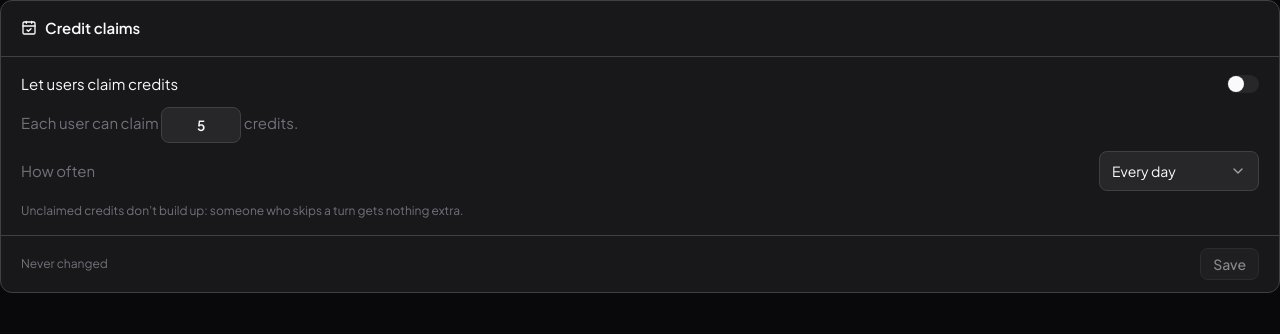
Test: DailyCreditsCard › refuses  as an amount, saying why
This screenshot has width=1280, height=334.
Clear the field named "Credits per claim" at (201, 125), box [161,107,241,143]
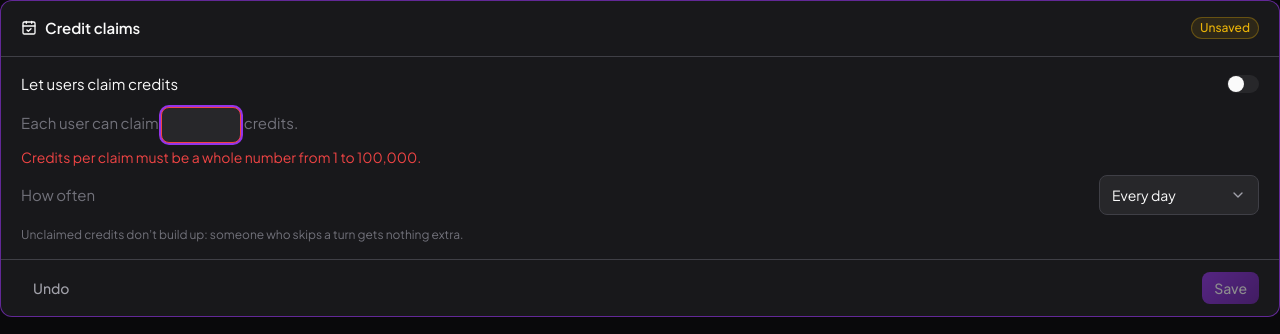
Check: the button "Save" is disabled, box [1202,272,1259,304]
Check: the text "Credits per claim must be a whole number from 1 to 100,000." is shown, box [21,148,421,166]
